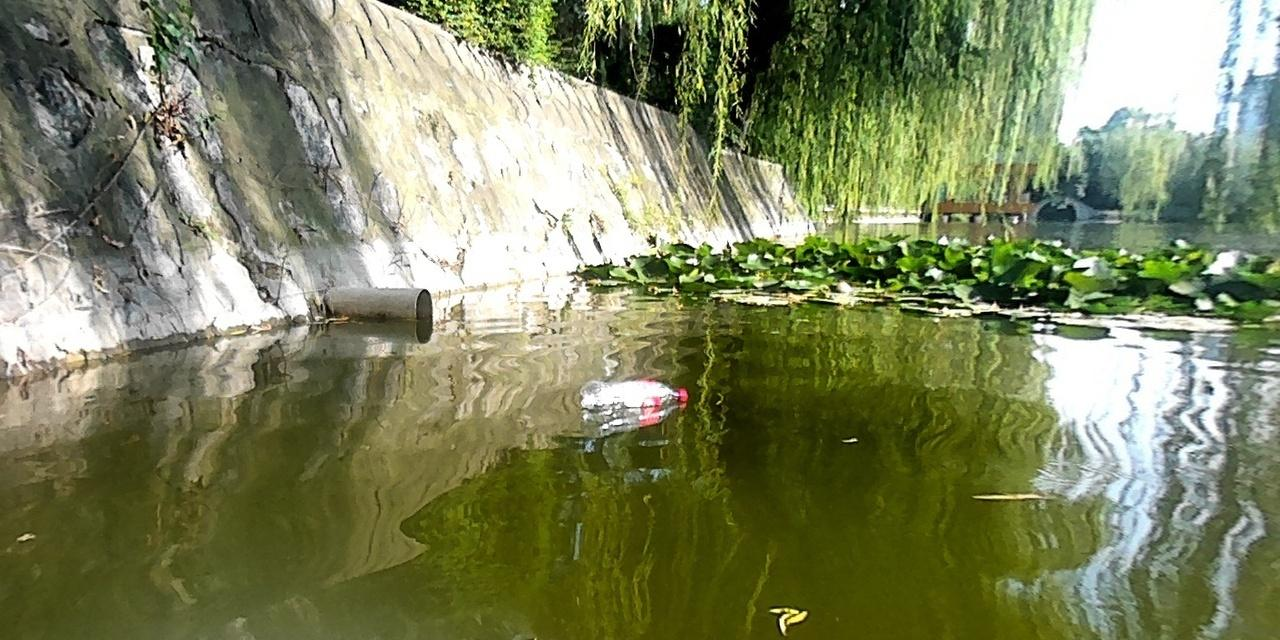bottle: (579, 379, 686, 410)
